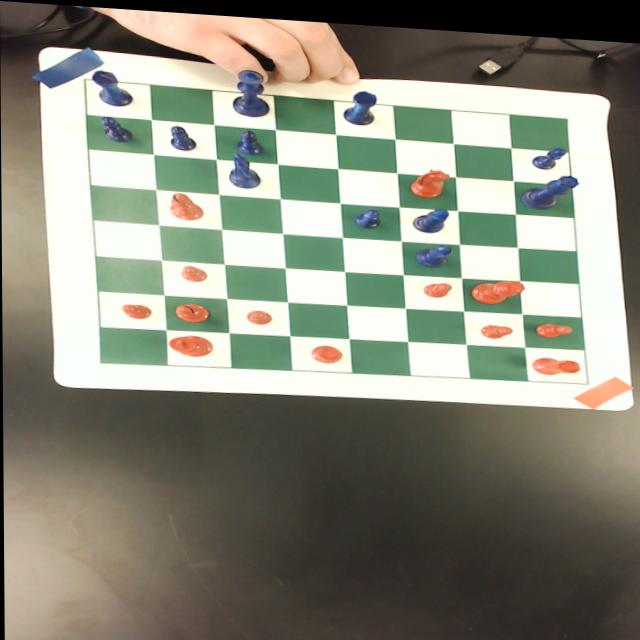B: (412, 199, 451, 227), (413, 237, 452, 263)
K: (231, 65, 271, 114)
N: (228, 148, 262, 186)
P: (99, 114, 135, 141), (531, 136, 567, 162), (170, 122, 197, 148), (239, 124, 264, 151), (354, 201, 381, 223)
Q: (520, 164, 580, 203)
R: (92, 68, 134, 105), (343, 83, 379, 120)
b: (170, 188, 204, 218), (175, 300, 209, 320)
k: (170, 330, 213, 355)
n: (409, 161, 451, 193)
p: (535, 314, 573, 330), (120, 300, 152, 318), (179, 261, 208, 280), (480, 316, 514, 332), (421, 275, 453, 292), (245, 304, 274, 322)
q: (470, 270, 525, 299)
r: (533, 348, 581, 368), (310, 339, 342, 359)
